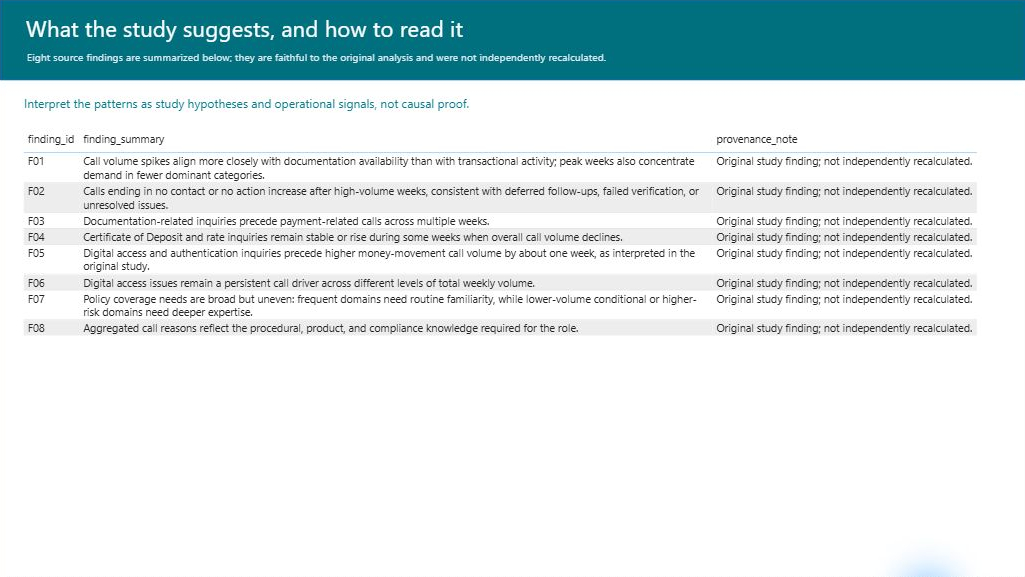

The dashboard page shown, as its layout file describes it:
{"tool":"powerbi","page":{"name":"Findings & Method","canvas":[1280,720],"ordinal":1},"visuals":[{"type":"shape","box":[0,0,1280,100],"z":0},{"type":"textbox","box":[32,16,1150,40],"z":1000},{"type":"textbox","box":[34,62,1190,24],"z":1000},{"type":"textbox","box":[30,118,1180,28],"z":1000},{"type":"tableEx","fields":{"Values":["Findings.finding_id","Findings.finding_summary","Findings.provenance_note"]},"box":[24,158,1210,516],"z":1000}]}

Visuals, with their boxes in screenshot pixels (x1, y1, x2, y2), scaled from the page's 1280x720 canvas onto the 1025x577 screenshot:
shape: bbox=[0, 0, 1024, 80]
textbox: bbox=[26, 13, 947, 45]
textbox: bbox=[27, 50, 980, 69]
textbox: bbox=[24, 95, 969, 117]
tableEx - Findings.finding_id x Findings.finding_summary: bbox=[19, 127, 988, 540]
